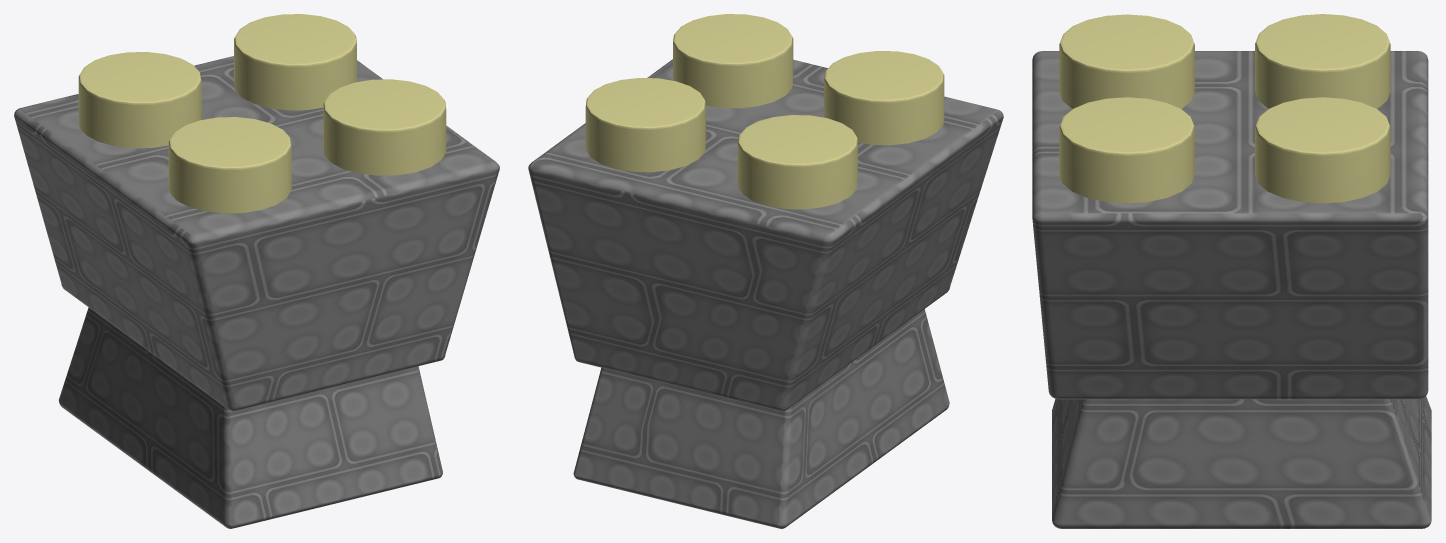
Rendered from coin block.fbx.
The picture shows the model from 3 angles, left to right: view 1: azimuth 30°, elevation 25°; view 2: azimuth 150°, elevation 25°; view 3: azimuth 270°, elevation 25°; orthographic projection. The views are drawn at different scales.
Parts seen in each view (by area): view 1: Completed_coin_block; view 2: Completed_coin_block; view 3: Completed_coin_block.
Part boxes in pixels (bbox=[...]): Completed_coin_block: bbox=[14, 14, 499, 528]; Completed_coin_block: bbox=[528, 14, 1003, 528]; Completed_coin_block: bbox=[1032, 14, 1431, 528].
Size of the model in its own units: 2.62 by 2.87 by 2.64.
Materials: 2 (1 with a texture image).
